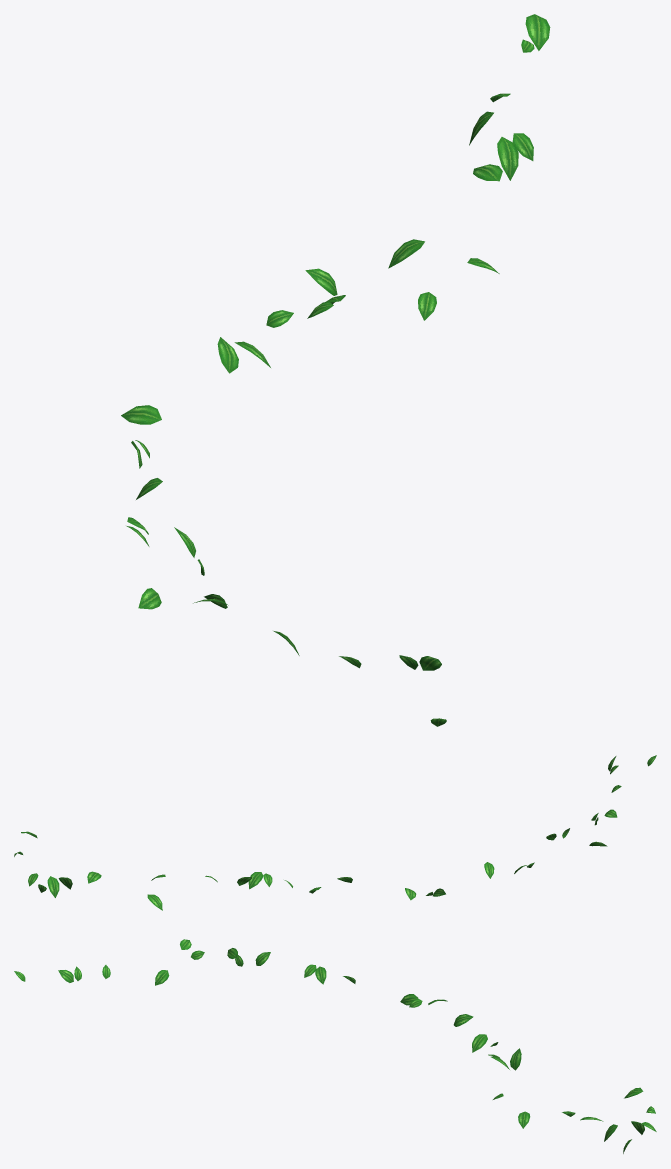
Rendered from EKH_BARRELROOM_PS_JA1_LEAVES_0938.fbx.
3 views of the same model, one above another, from view 1: azimuth 30°, elevation 25°; view 2: azimuth 150°, elevation 25°; view 3: azimuth 270°, elevation 25° (orthographic). The views are drawn at different scales.
Parts seen in each view (by area): view 1: EKH_BARRELROOM_PS_JA1_LEAVES_0938; view 2: EKH_BARRELROOM_PS_JA1_LEAVES_0938; view 3: EKH_BARRELROOM_PS_JA1_LEAVES_0938.
Boxes of the visible parts, <box> form: EKH_BARRELROOM_PS_JA1_LEAVES_0938: <box>121,14,550,726</box>; EKH_BARRELROOM_PS_JA1_LEAVES_0938: <box>14,755,656,910</box>; EKH_BARRELROOM_PS_JA1_LEAVES_0938: <box>14,939,656,1153</box>.
Size of the model in its own units: 52695 by 9808 by 69389.
Materials: 1 (1 with a texture image).
